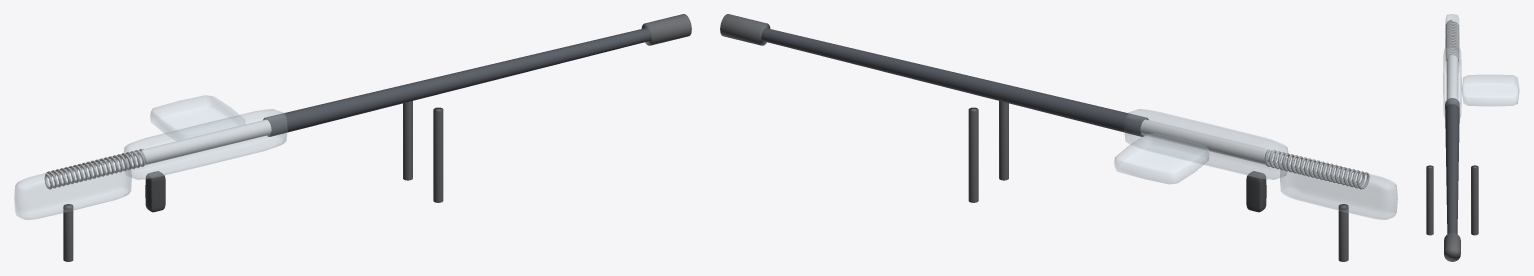
Rendered from solothurn-s18-gls.glb.
3 renders of one model, left to right at view 1: azimuth 30°, elevation 25°; view 2: azimuth 150°, elevation 25°; view 3: azimuth 270°, elevation 25°, orthographic. The views are drawn at different scales.
Visible parts, largest first — view 1: barrel_1300mm, receiver_20mm, shoulder_stock, side_mag_20mm, bolt_20mm, recoil_spring_20mm, muzzle_brake_20mm, bipod_R, pistol_grip, bipod_L, rear_monopod; view 2: barrel_1300mm, receiver_20mm, shoulder_stock, side_mag_20mm, bolt_20mm, recoil_spring_20mm, muzzle_brake_20mm, bipod_L, pistol_grip, bipod_R, rear_monopod; view 3: side_mag_20mm, barrel_1300mm, receiver_20mm, bipod_L, bipod_R, bolt_20mm, recoil_spring_20mm, muzzle_brake_20mm, shoulder_stock.
Boxes of the visible parts, box(x1,y1,x2,y2) form: barrel_1300mm: box(263, 28, 650, 136); receiver_20mm: box(123, 109, 287, 179); shoulder_stock: box(14, 157, 131, 219); side_mag_20mm: box(150, 95, 245, 140); bolt_20mm: box(139, 119, 271, 165); recoil_spring_20mm: box(44, 149, 145, 189); muzzle_brake_20mm: box(641, 14, 691, 45); bipod_R: box(433, 107, 443, 202); pistol_grip: box(145, 171, 165, 212); bipod_L: box(403, 101, 412, 180); rear_monopod: box(63, 204, 73, 261); barrel_1300mm: box(761, 28, 1148, 136); receiver_20mm: box(1124, 109, 1288, 179); shoulder_stock: box(1280, 157, 1397, 219); side_mag_20mm: box(1114, 133, 1209, 184); bolt_20mm: box(1140, 119, 1272, 164); recoil_spring_20mm: box(1264, 149, 1369, 189); muzzle_brake_20mm: box(720, 14, 770, 45); bipod_L: box(968, 107, 978, 202); pistol_grip: box(1246, 171, 1266, 212); bipod_R: box(999, 101, 1008, 180); rear_monopod: box(1338, 204, 1348, 261); side_mag_20mm: box(1461, 74, 1519, 106); barrel_1300mm: box(1445, 98, 1459, 234); receiver_20mm: box(1443, 46, 1461, 119); bipod_L: box(1471, 165, 1478, 235); bipod_R: box(1426, 165, 1433, 235); bolt_20mm: box(1446, 55, 1458, 99); recoil_spring_20mm: box(1445, 19, 1459, 61); muzzle_brake_20mm: box(1444, 233, 1460, 261); shoulder_stock: box(1445, 14, 1459, 72).
Size of the model in its own units: 2.15 by 0.3545 by 0.354.
